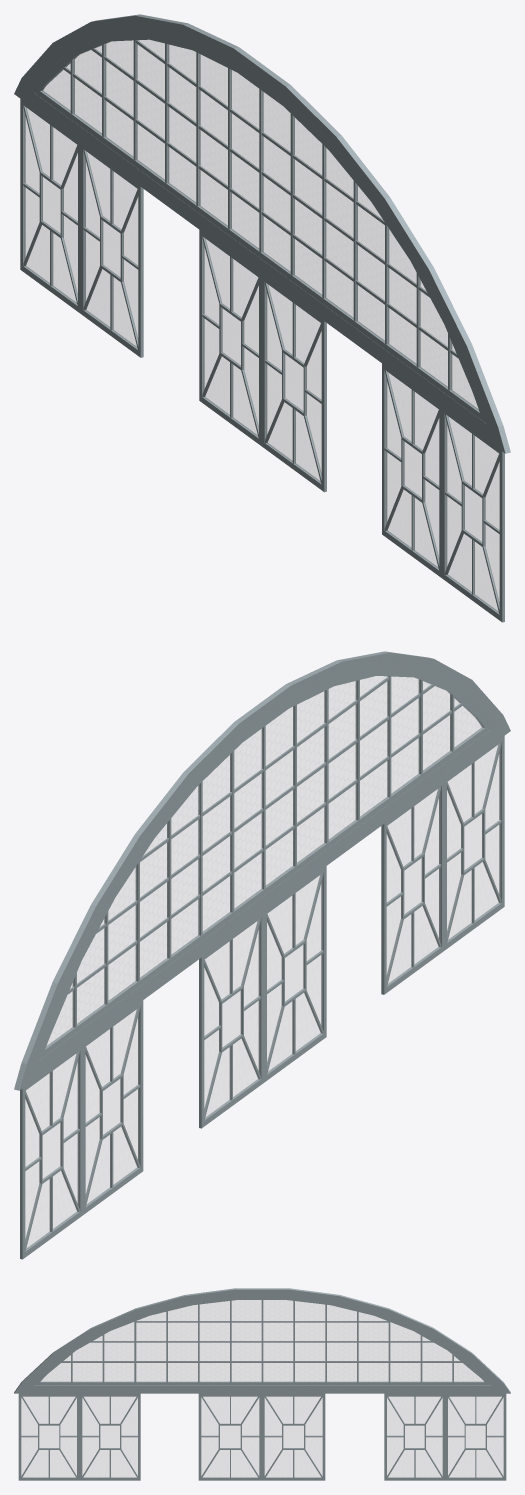
The model's file is Station02_C.FBX.
The picture shows the model from 3 angles, top to bottom: view 1: azimuth 30°, elevation 25°; view 2: azimuth 150°, elevation 25°; view 3: azimuth 270°, elevation 25°; orthographic projection. The views are drawn at different scales.
Visible parts, largest first — view 1: Station02ArcWindow, Station02Window02, Station02Arc, Station02ArcMetall, Station02Window02Mtl, Station02Window02_, Station02Window02Mtl_, Station02Window03, Station02Window03_; view 2: Station02ArcWindow, Station02Window02, Station02Arc, Station02ArcMetall, Station02Window02Mtl, Station02Window02_, Station02Window02Mtl_, Station02Window03, Station02Window03_; view 3: Station02ArcWindow, Station02Window02, Station02ArcMetall, Station02Arc, Station02Window02_, Station02Window02Mtl, Station02Window02Mtl_, Station02Window03, Station02Window03_.
Boxes of the visible parts, <box> form: Station02ArcWindow: <box>42,40,478,410</box>; Station02Window02: <box>24,108,499,612</box>; Station02Arc: <box>33,32,485,422</box>; Station02ArcMetall: <box>14,14,510,453</box>; Station02Window02Mtl: <box>20,99,504,622</box>; Station02Window02_: <box>203,239,321,481</box>; Station02Window02Mtl_: <box>199,230,326,492</box>; Station02Window03: <box>42,177,481,542</box>; Station02Window03_: <box>222,308,303,411</box>; Station02ArcWindow: <box>46,676,482,1047</box>; Station02Window02: <box>25,745,500,1249</box>; Station02Arc: <box>39,669,490,1059</box>; Station02ArcMetall: <box>14,651,510,1090</box>; Station02Window02Mtl: <box>20,736,504,1259</box>; Station02Window02_: <box>204,875,322,1118</box>; Station02Window02Mtl_: <box>199,866,326,1128</box>; Station02Window03: <box>43,814,482,1179</box>; Station02Window03_: <box>222,945,303,1047</box>; Station02ArcWindow: <box>41,1300,483,1381</box>; Station02Window02: <box>21,1397,503,1477</box>; Station02ArcMetall: <box>14,1288,510,1393</box>; Station02Arc: <box>34,1297,490,1385</box>; Station02Window02_: <box>201,1397,322,1477</box>; Station02Window02Mtl: <box>18,1393,506,1480</box>; Station02Window02Mtl_: <box>198,1393,325,1480</box>; Station02Window03: <box>39,1426,485,1447</box>; Station02Window03_: <box>220,1426,303,1447</box>.
Size of the model in its own units: 300 by 19991 by 47004.
